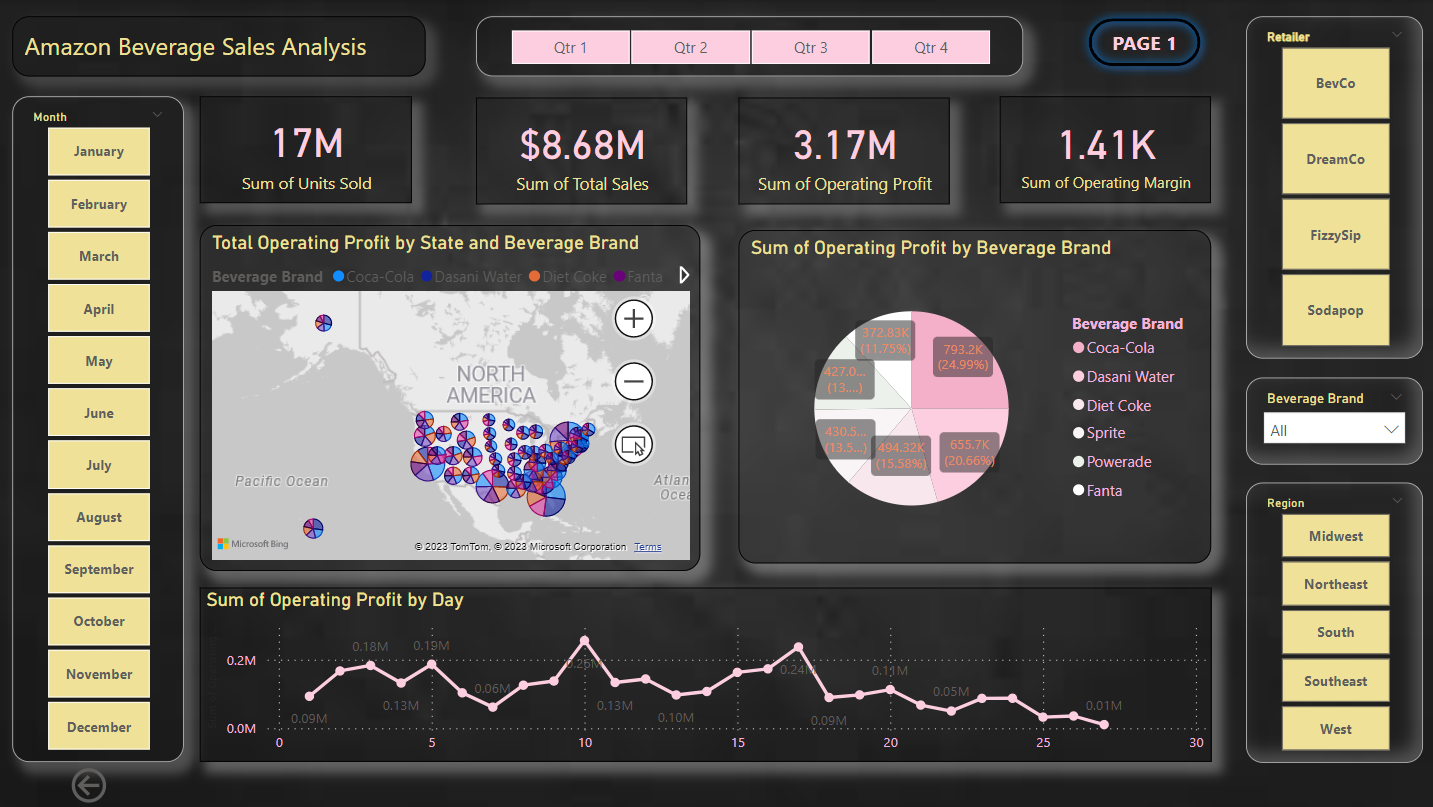

Layout of this report page (visuals, bound fields, positions):
{"tool":"powerbi","page":{"name":"EDA 2","canvas":[1280,720],"ordinal":1},"visuals":[{"type":"slicer","fields":{"Values":["coca_cola.Invoice Date.Variation.Date Hierarchy.Month"]},"box":[14.5,85.7,152.5,593.1],"z":0},{"type":"slicer","fields":{"Values":["coca_cola.Invoice Date.Variation.Date Hierarchy.Quarter"]},"box":[427.3,14.5,487.4,53.4],"z":1000},{"type":"slicer","fields":{"Values":["coca_cola.Region"]},"box":[1113.2,429.3,158,249.6],"z":2000},{"type":"slicer","fields":{"Values":["coca_cola.Retailer"]},"box":[1113.3,14.4,157.8,304.4],"z":3000},{"type":"slicer","fields":{"Values":["coca_cola.Beverage Brand"]},"box":[1113.3,335.6,157.8,77.8],"z":4000},{"type":"card","fields":{"Values":["Sum(coca_cola.Operating Profit)"]},"box":[660.9,86.8,188,95.3],"z":5000},{"type":"card","fields":{"Values":["Sum(coca_cola.Total Sales)"]},"box":[426.9,86.4,188,95.3],"z":6000},{"type":"card","fields":{"Values":["Sum(coca_cola.Units Sold)"]},"box":[181.1,85.6,188.9,95.6],"z":7000},{"type":"card","fields":{"Values":["Sum(Beverage_Data.Operating Margin)"]},"box":[893.9,85.4,188,95],"z":8000},{"type":"pieChart","fields":{"Category":["coca_cola.Beverage Brand"],"Y":["Sum(coca_cola.Operating Profit)"]},"box":[661.1,204.4,421.1,296.7],"z":9000},{"type":"textbox","box":[14.5,14.5,368.3,53.4],"z":10000},{"type":"map","title":"Total Operating Profit by State and Beverage Brand","fields":{"Category":["coca_cola.State"],"Series":["coca_cola.Beverage Brand"],"Size":["Sum(coca_cola.Operating Profit)"]},"box":[181.1,200,445.6,307.8],"z":11000},{"type":"actionButton","box":[62.7,679,48.2,41],"z":12000},{"type":"lineChart","fields":{"Category":["coca_cola.Invoice Date.Variation.Date Hierarchy.Day"],"Y":["Sum(coca_cola.Operating Profit)"]},"box":[181.1,523.3,901.1,155.6],"z":13000},{"type":"actionButton","title":"PAGE 2","box":[963.7,0,118,67.9],"z":13001}]}

Visuals, with their boxes in screenshot pixels (x1, y1, x2, y2), scaled from the page's 1280x720 canvas onto the 1433x807 screenshot:
slicer - coca_cola.Invoice Date.Variation.Date Hierarchy.Month: <bbox>16, 96, 187, 761</bbox>
slicer - coca_cola.Invoice Date.Variation.Date Hierarchy.Quarter: <bbox>478, 16, 1024, 76</bbox>
slicer - coca_cola.Region: <bbox>1246, 481, 1423, 761</bbox>
slicer - coca_cola.Retailer: <bbox>1246, 16, 1423, 357</bbox>
slicer - coca_cola.Beverage Brand: <bbox>1246, 376, 1423, 463</bbox>
card - Sum(coca_cola.Operating Profit): <bbox>740, 97, 950, 204</bbox>
card - Sum(coca_cola.Total Sales): <bbox>478, 97, 688, 204</bbox>
card - Sum(coca_cola.Units Sold): <bbox>203, 96, 414, 203</bbox>
card - Sum(Beverage_Data.Operating Margin): <bbox>1001, 96, 1211, 202</bbox>
pieChart - coca_cola.Beverage Brand x Sum(coca_cola.Operating Profit): <bbox>740, 229, 1212, 562</bbox>
textbox: <bbox>16, 16, 429, 76</bbox>
"Total Operating Profit by State and Beverage Brand" map: <bbox>203, 224, 702, 569</bbox>
actionButton: <bbox>70, 761, 124, 806</bbox>
lineChart - coca_cola.Invoice Date.Variation.Date Hierarchy.Day x Sum(coca_cola.Operating Profit): <bbox>203, 587, 1212, 761</bbox>
"PAGE 2" actionButton: <bbox>1079, 0, 1211, 76</bbox>
